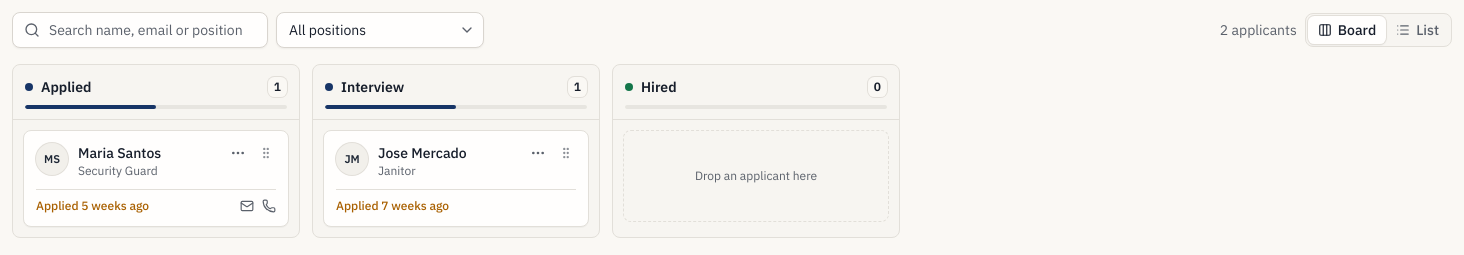
Test case: ApplicantPipeline › filters the board by search
The image size is (1464, 255).
Type "janitor" into the field named "Search applicants" at (140, 30), box [12, 12, 268, 48]
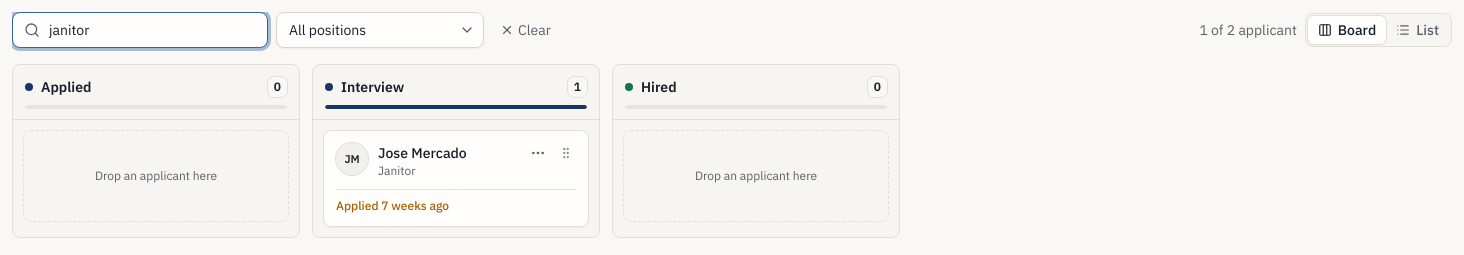
expect the button "Jose Mercado" is shown: met, box [378, 143, 467, 163]
expect the button "Maria Santos" is gone: met
